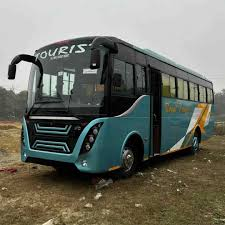bus: (6, 35, 216, 177)
